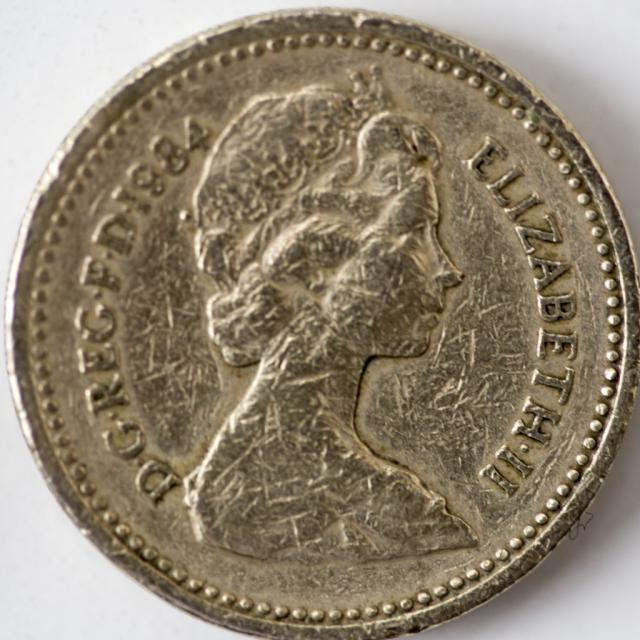Coin: (4, 6, 640, 639)
